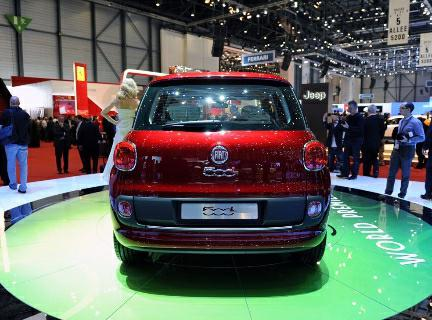菲亚特-500X: (106, 65, 343, 274)
